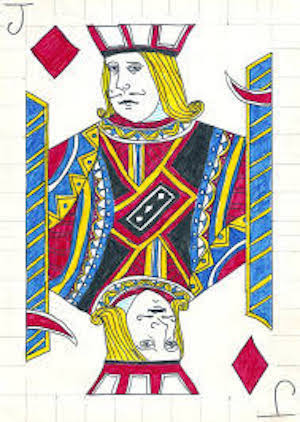JackOfDiamonds: (1, 4, 299, 422)
